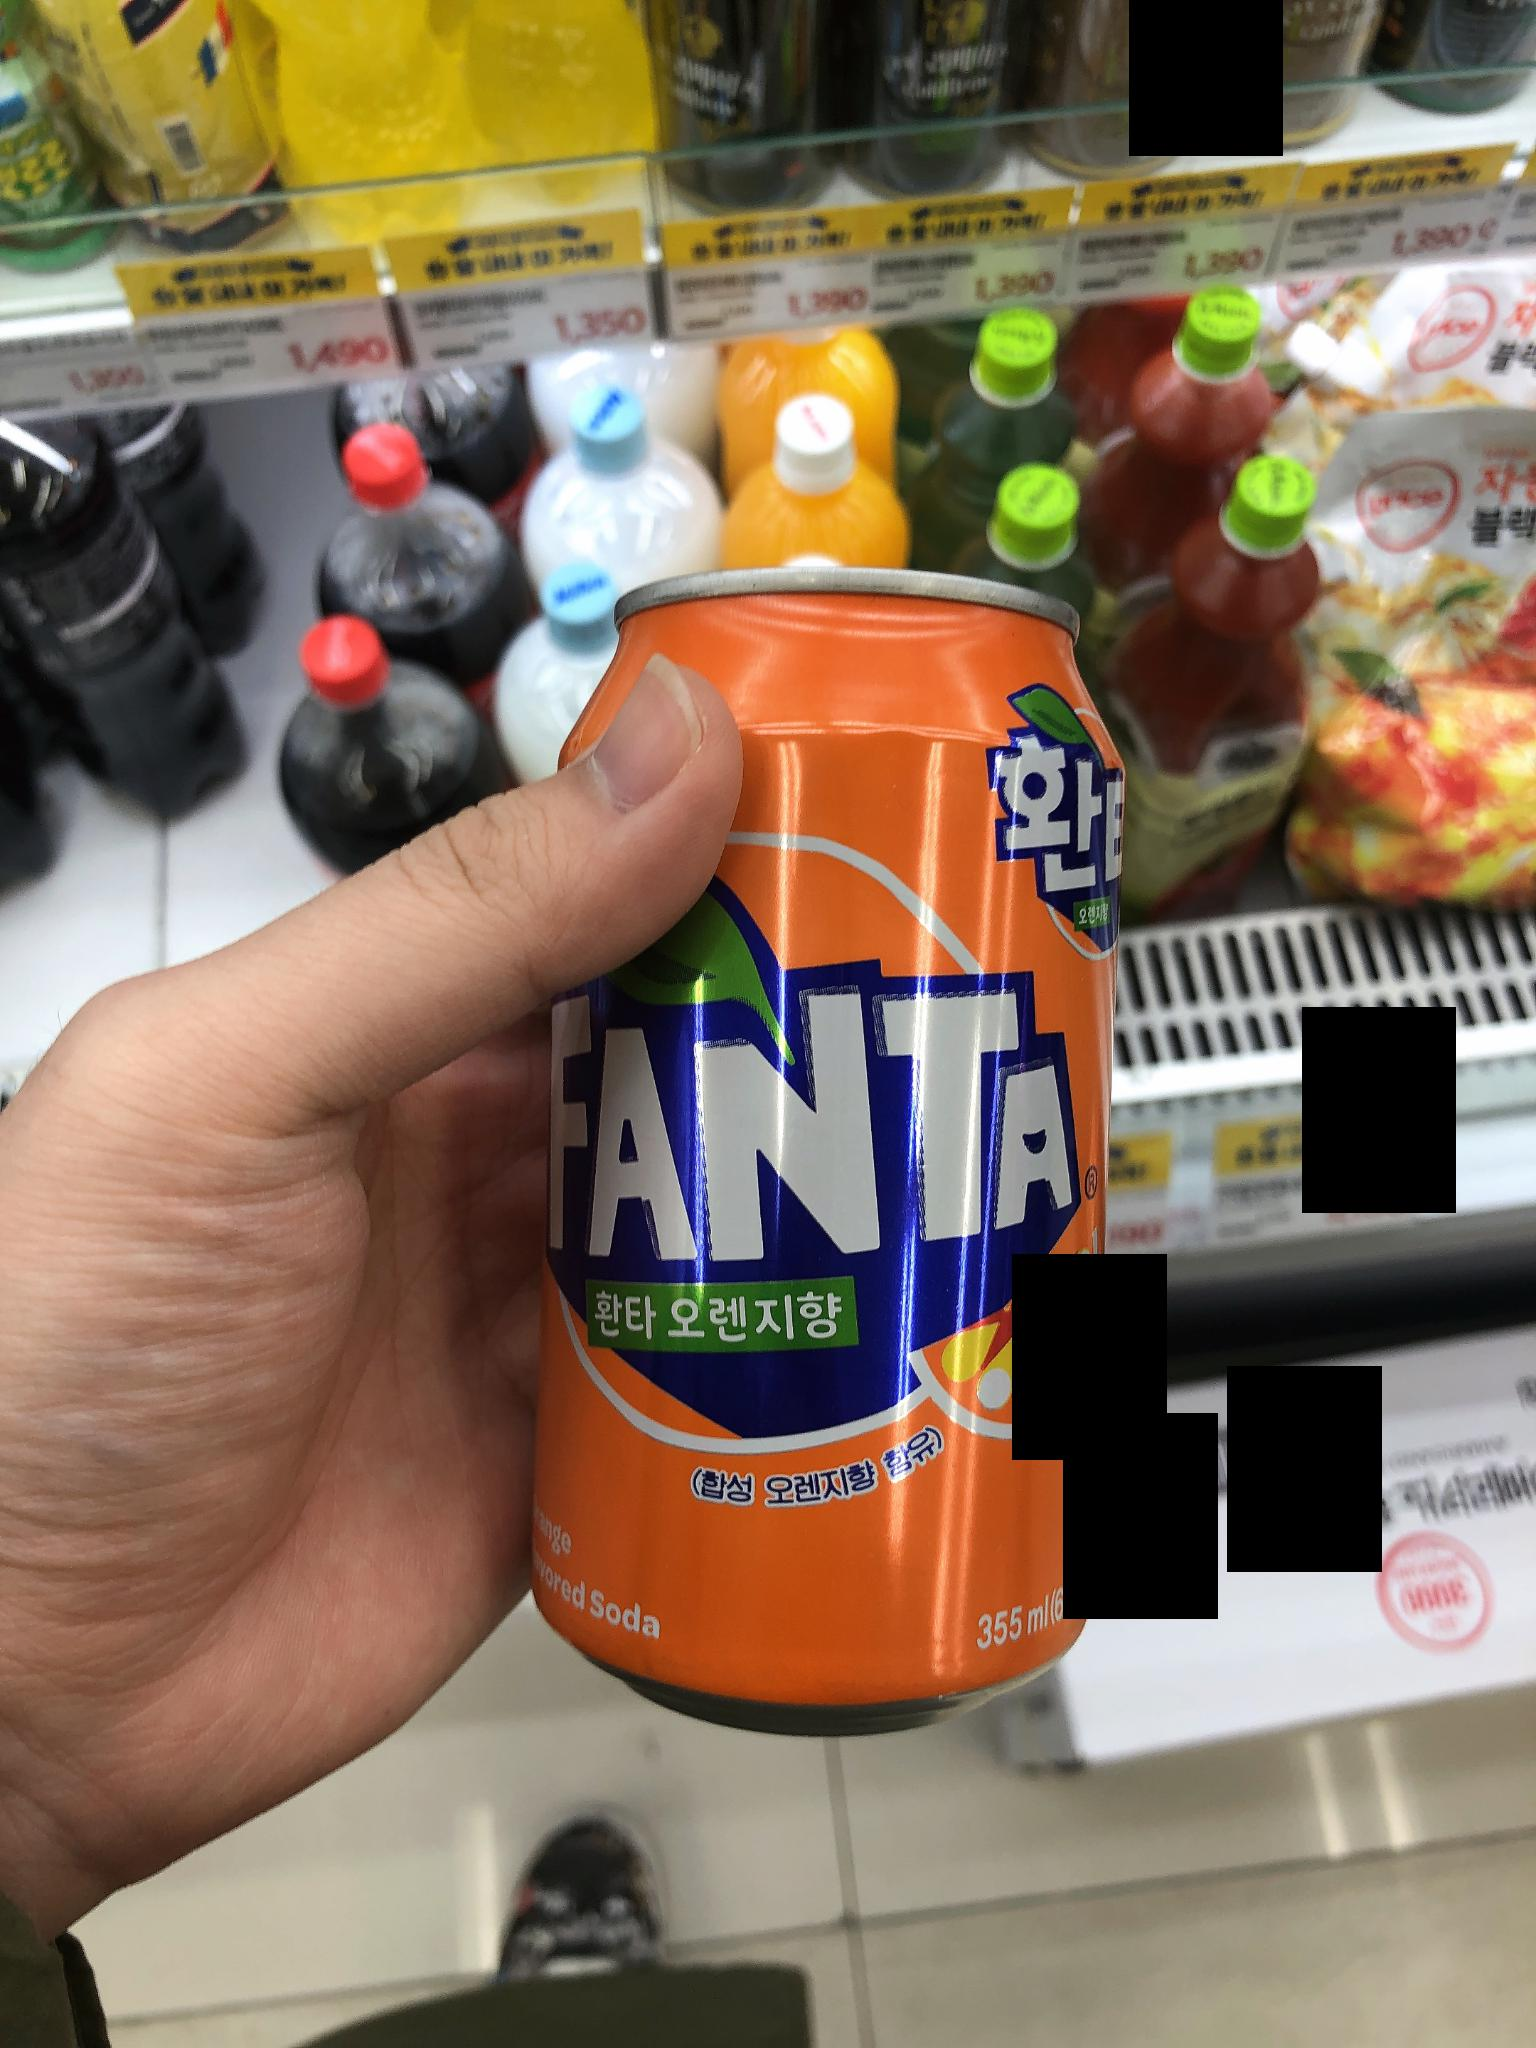fanta_orange: (494, 540, 1183, 1743)
